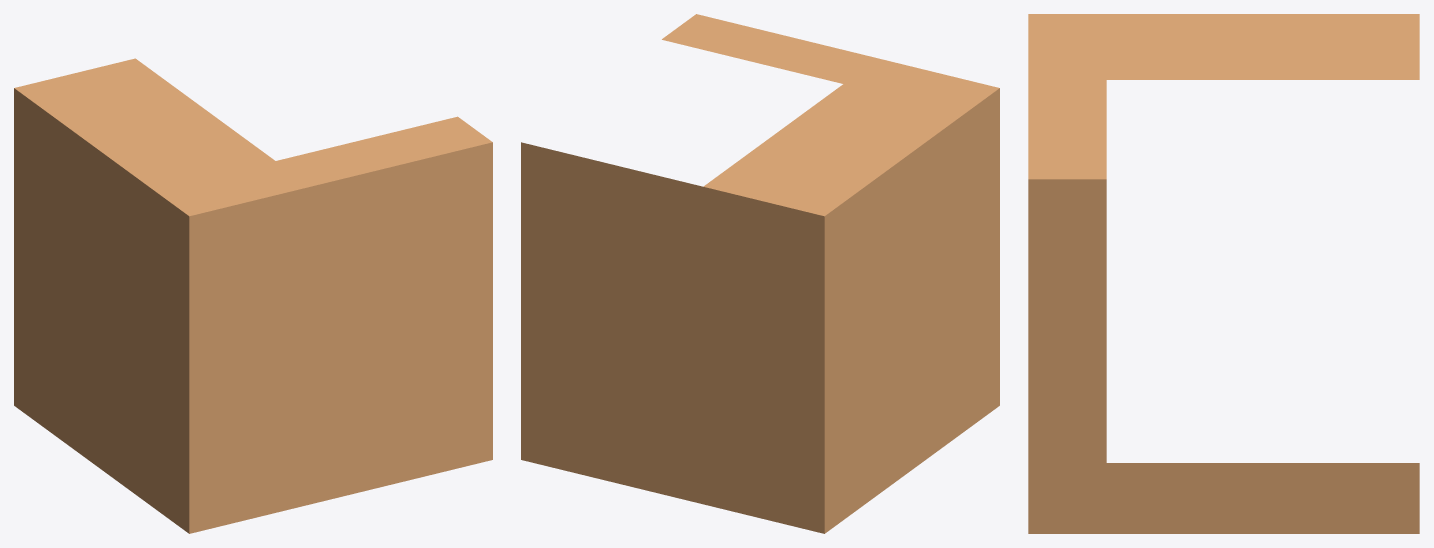
File: serial_test_example_fn_std-solid-split3_output.glb
3 renders of one model, left to right at view 1: azimuth 30°, elevation 25°; view 2: azimuth 150°, elevation 25°; view 3: azimuth 270°, elevation 25°, orthographic. The views are drawn at different scales.
Bounding box in the file's own units: 0.01 × 0.01 × 0.01.
